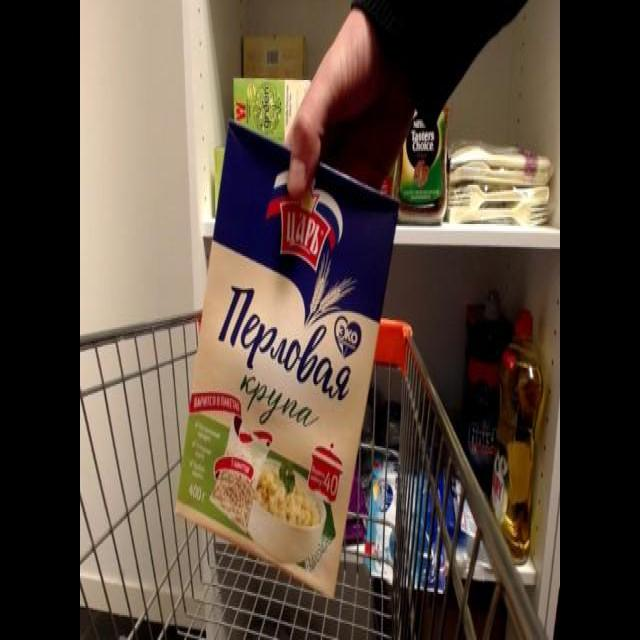Groats: (169, 107, 404, 606)
